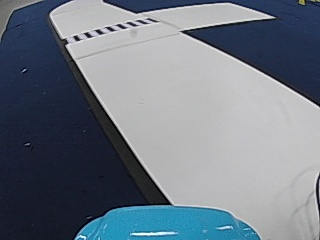CrossWalk: (70, 17, 157, 45)
